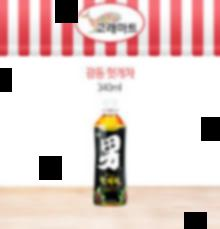heotgaecha: (94, 98, 126, 207)
